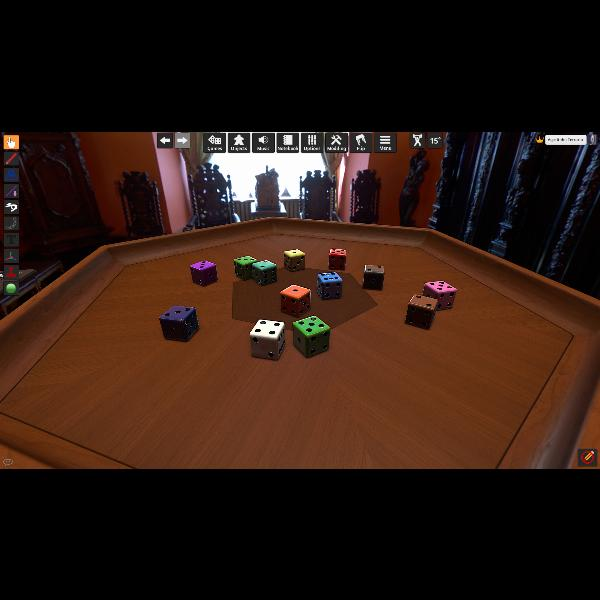d6: (292, 315, 330, 357), (159, 304, 199, 342), (250, 320, 286, 360), (404, 294, 434, 330), (422, 281, 456, 311), (280, 284, 310, 316), (316, 270, 342, 300), (189, 260, 216, 286), (252, 259, 276, 285), (234, 254, 256, 280), (363, 264, 384, 290), (283, 248, 305, 272), (328, 249, 346, 271)
